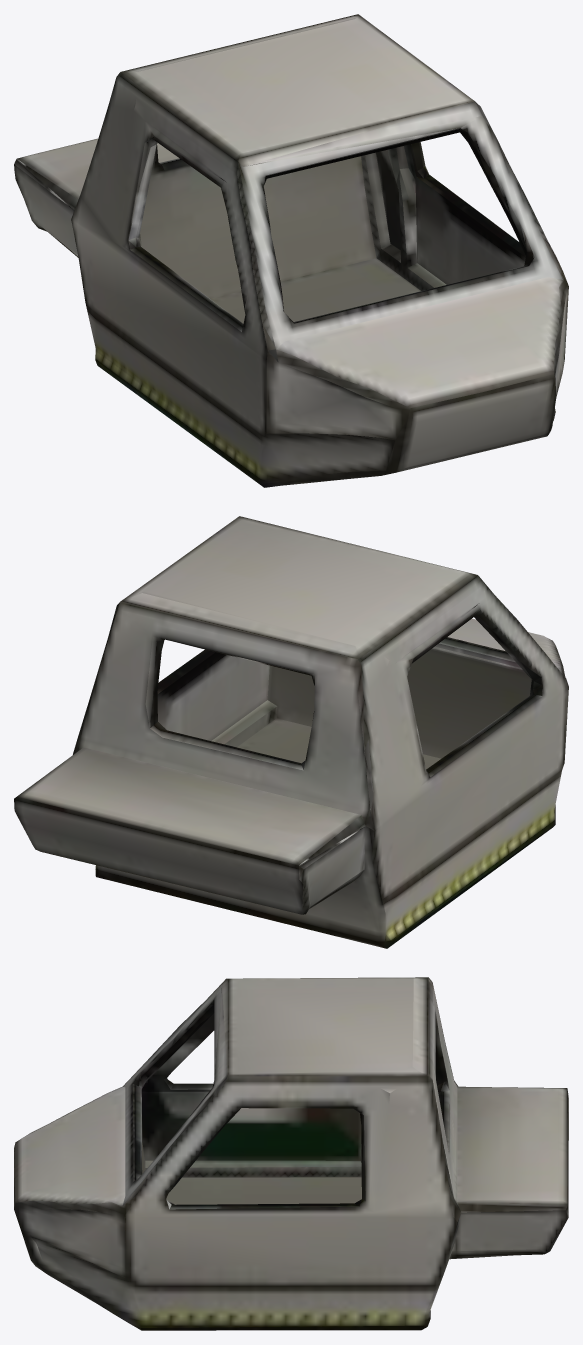
Rendered from scout-shell.glb.
The picture shows the model from 3 angles, top to bottom: view 1: azimuth 30°, elevation 25°; view 2: azimuth 150°, elevation 25°; view 3: azimuth 270°, elevation 25°; orthographic projection. The views are drawn at different scales.
Visible parts, largest first — view 1: low; view 2: low; view 3: low.
Part boxes in pixels (x1,y1,x2,y2): low: [14, 14, 568, 487]; low: [14, 516, 568, 948]; low: [14, 977, 568, 1330].
Bounding box in the file's own units: 1.29 × 1.18 × 2.4.
1 material, 1 textured.
